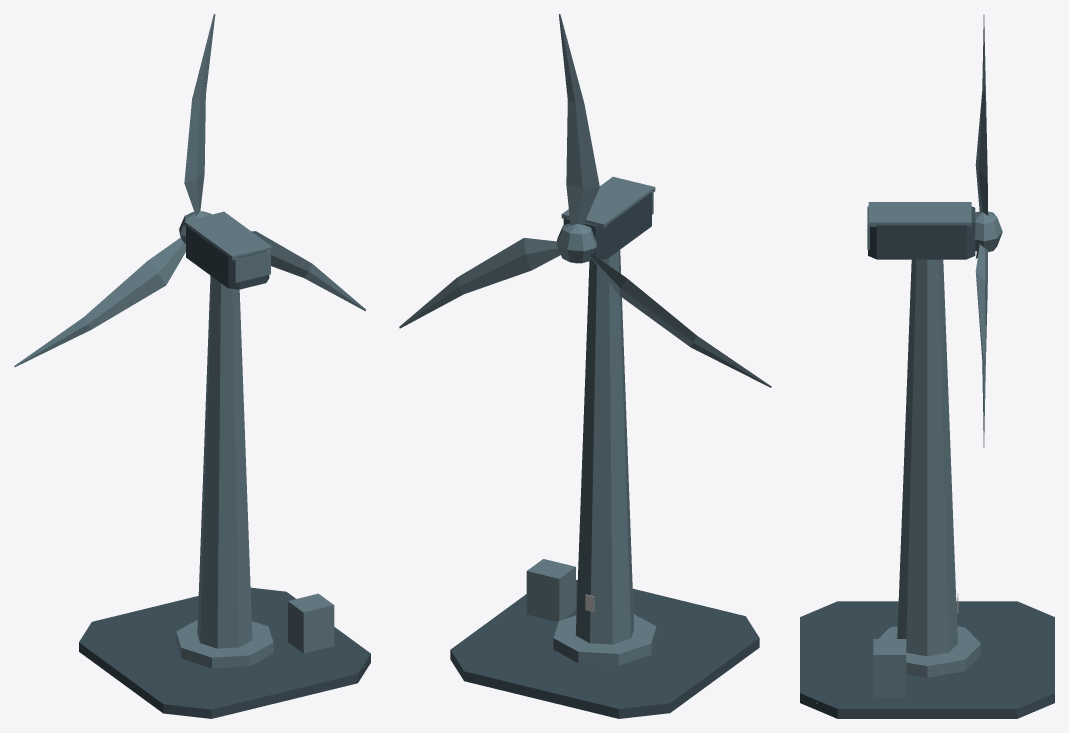
File: wind_turbine.lod2.glb
3 views of the same model, side by side, from view 1: azimuth 30°, elevation 25°; view 2: azimuth 150°, elevation 25°; view 3: azimuth 270°, elevation 25° (orthographic). The views are drawn at different scales.
Visible parts, largest first — view 1: wind_turbine_graphite_light.002, wind_turbine_graphite.002; view 2: wind_turbine_graphite_light.002, wind_turbine_graphite.002; view 3: wind_turbine_graphite_light.002, wind_turbine_graphite.002.
Part boxes in pixels (x1,y1,x2,y2): wind_turbine_graphite_light.002: (14, 14, 365, 668); wind_turbine_graphite.002: (79, 225, 370, 718); wind_turbine_graphite_light.002: (399, 14, 771, 665); wind_turbine_graphite.002: (450, 192, 759, 718); wind_turbine_graphite_light.002: (816, 14, 1002, 703); wind_turbine_graphite.002: (800, 206, 1054, 718).
Bounding box in the file's own units: 14.93 × 25.1 × 8.8.
